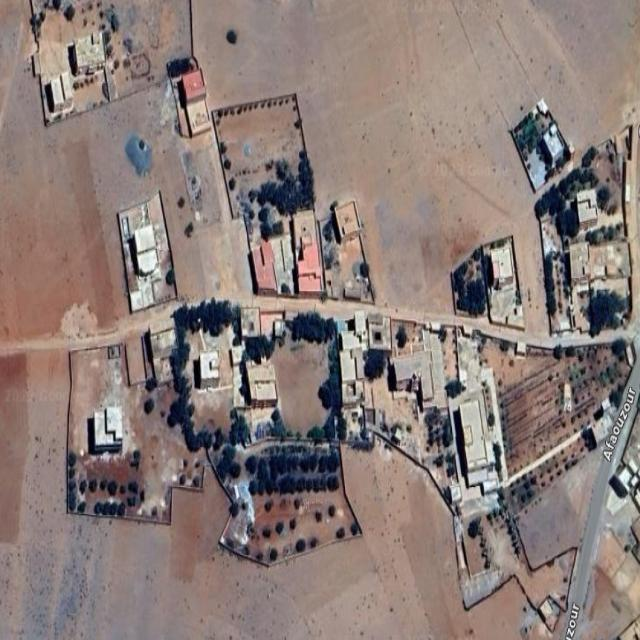Countryside roofs: (169, 63, 220, 140), (332, 331, 372, 424), (452, 391, 493, 468), (237, 357, 287, 418), (290, 214, 326, 297), (89, 406, 135, 465), (397, 351, 439, 410), (128, 223, 167, 280), (188, 350, 226, 408), (249, 230, 278, 302), (72, 34, 112, 84), (328, 193, 364, 242), (568, 191, 609, 234), (485, 249, 523, 294), (42, 76, 81, 118), (371, 308, 399, 361), (566, 243, 595, 287), (232, 301, 263, 341), (542, 126, 570, 170)
